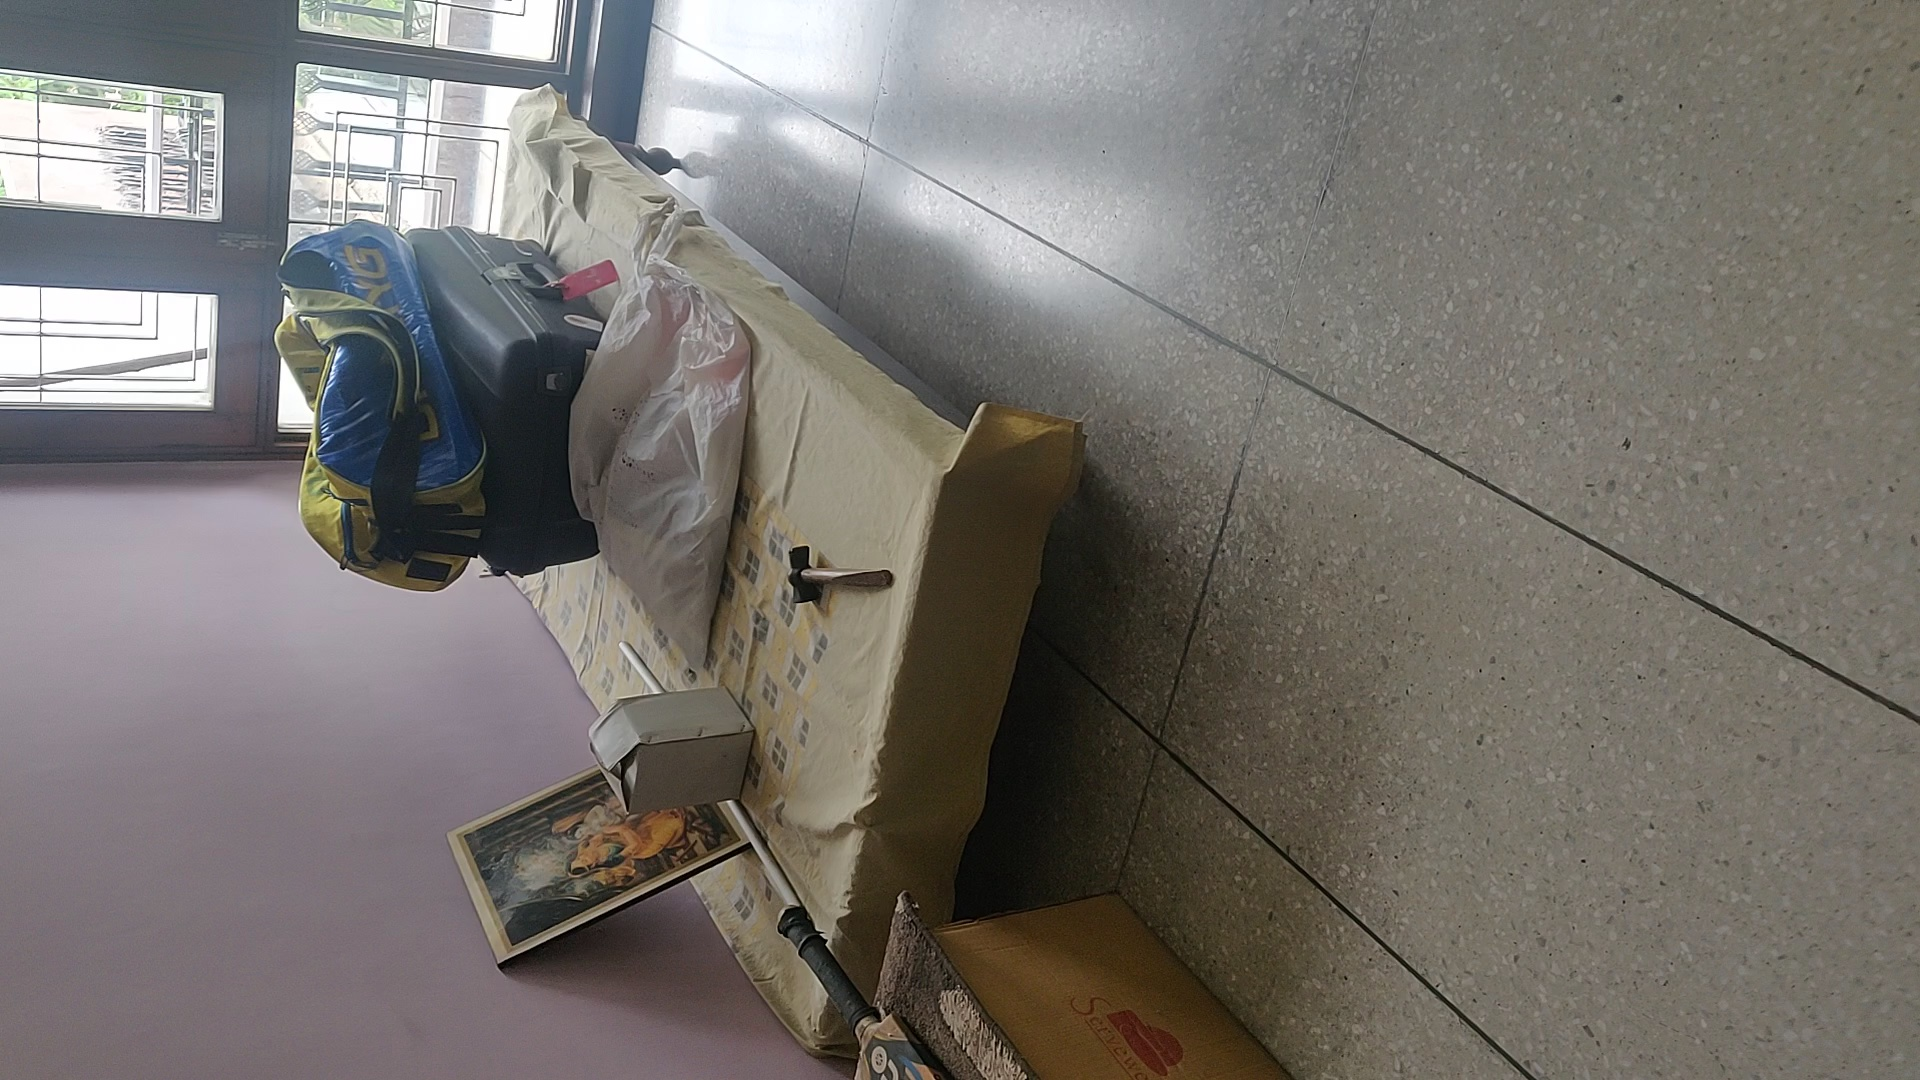hammer: (786, 545, 894, 608)
